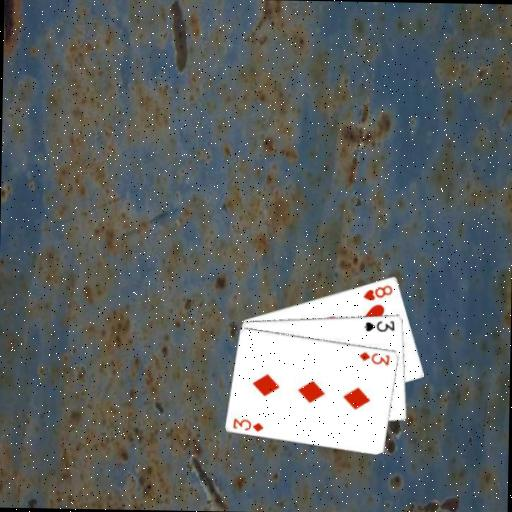3D: (356, 348, 392, 367), (230, 415, 265, 434)
3S: (362, 317, 397, 333)
8H: (360, 282, 394, 303)
